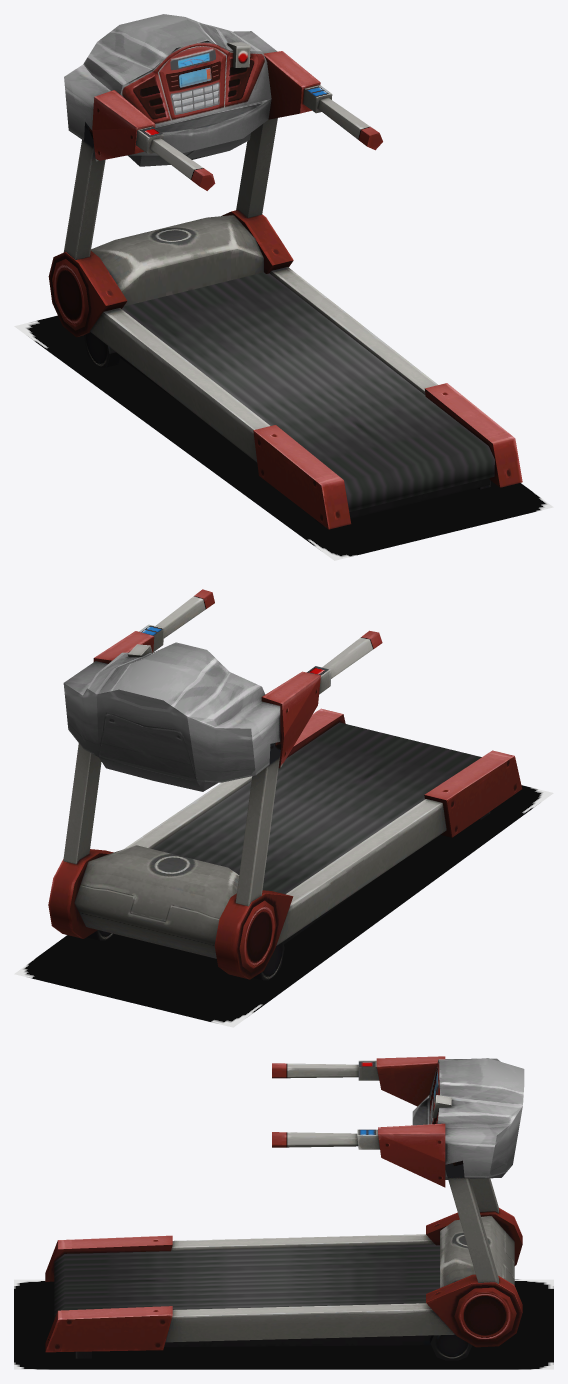
The model's file is jj_ty_jianshen02.FBX.
3 renders of one model, top to bottom at view 1: azimuth 30°, elevation 25°; view 2: azimuth 150°, elevation 25°; view 3: azimuth 270°, elevation 25°, orthographic. The views are drawn at different scales.
Visible parts, largest first — view 1: jj_ty_jianshen02, shadow; view 2: jj_ty_jianshen02, shadow; view 3: jj_ty_jianshen02, shadow.
Part boxes in pixels (x1,y1,x2,y2): jj_ty_jianshen02: [48, 14, 522, 529]; shadow: [14, 315, 553, 560]; jj_ty_jianshen02: [48, 589, 522, 980]; shadow: [14, 785, 553, 1027]; jj_ty_jianshen02: [45, 1056, 524, 1360]; shadow: [14, 1279, 553, 1369].
Size of the model in its own units: 101 by 135 by 255.
